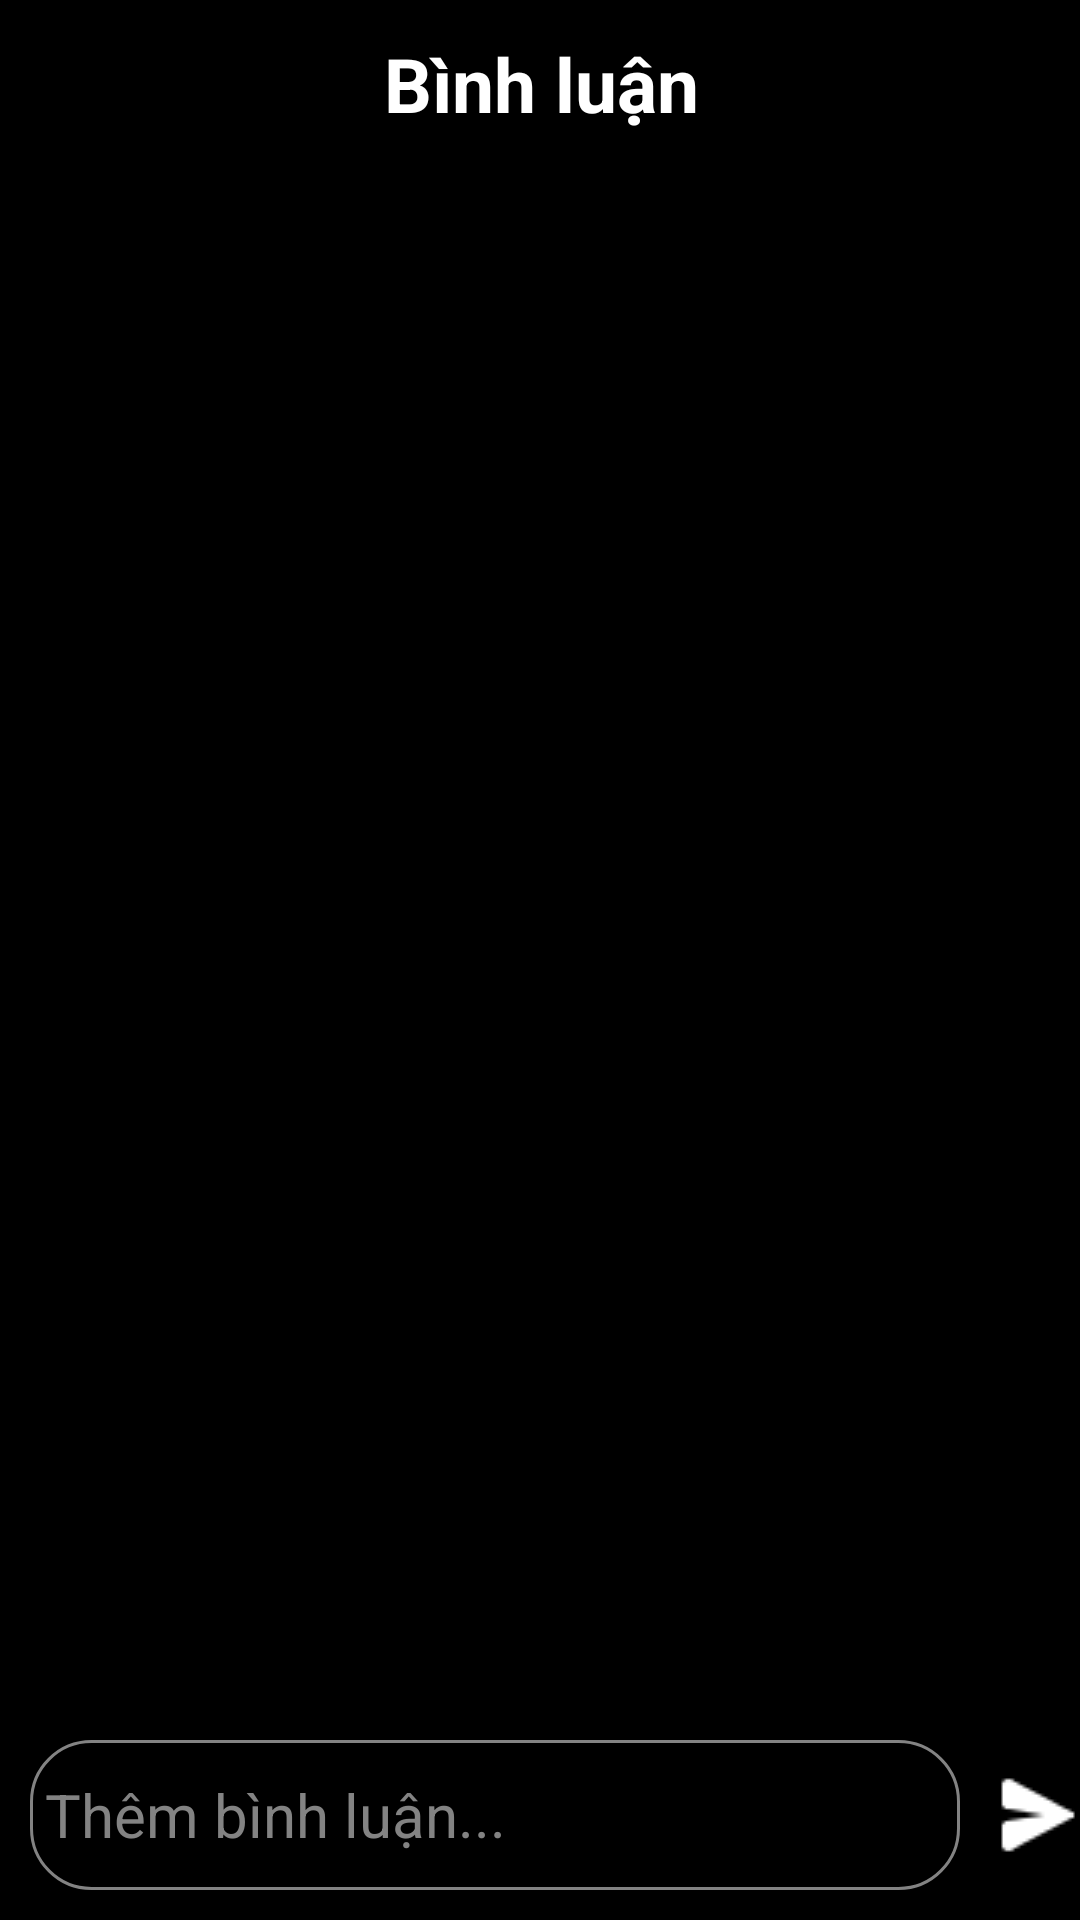

Named icons in this screenshot (1080x1920) and their bounding boxes, bbox=(x1, y1, x2, y2):
send: bbox=(1001, 1778, 1075, 1852)
